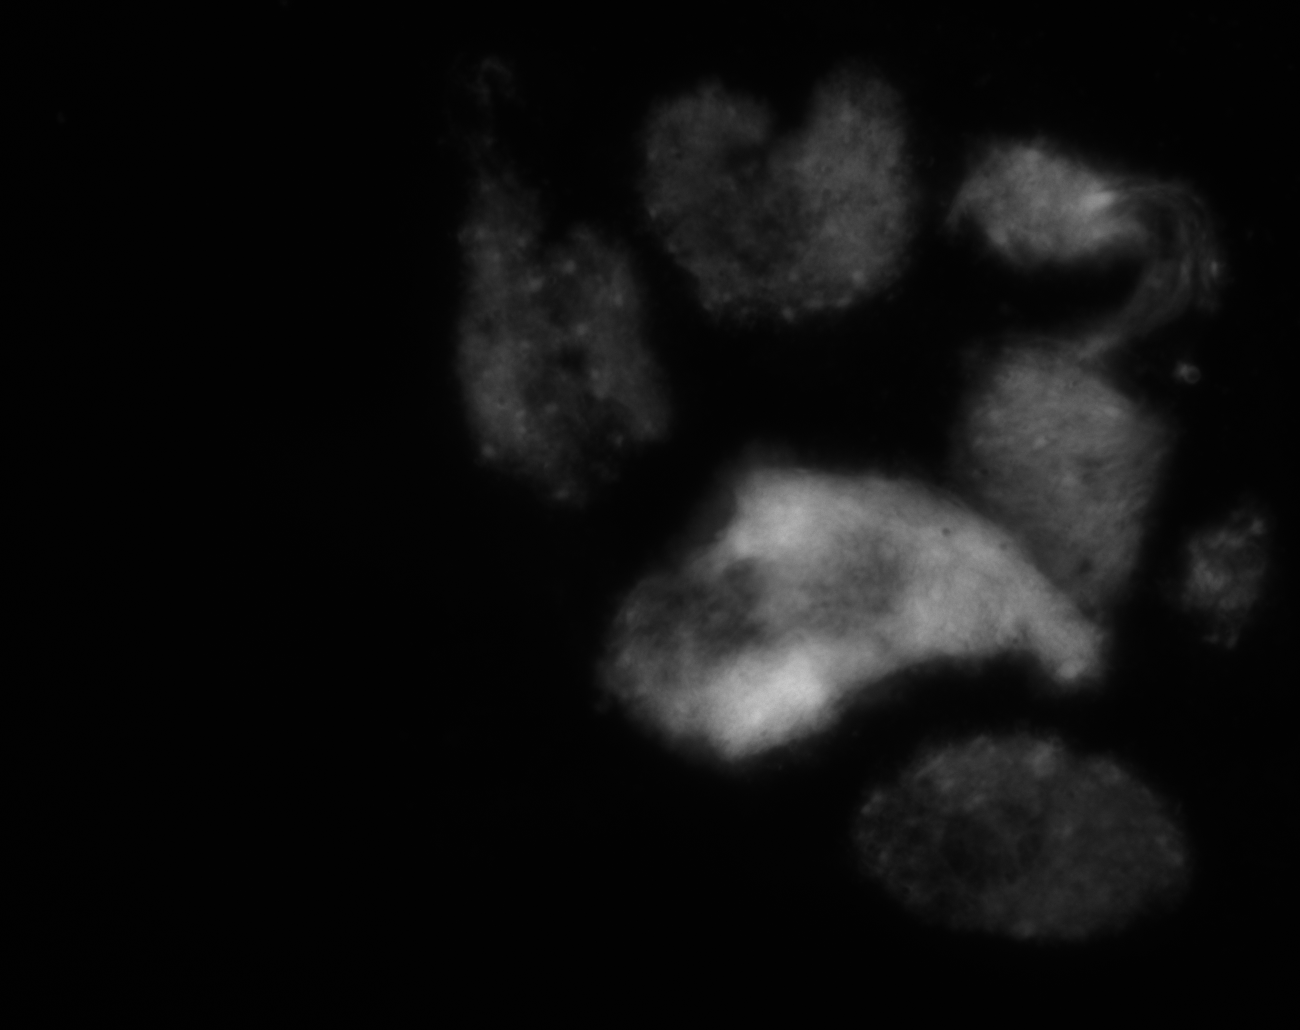Others: (567, 426, 1072, 786), (372, 56, 713, 509), (785, 716, 1236, 970), (906, 293, 1242, 581), (642, 49, 903, 343), (922, 120, 1245, 300), (1148, 476, 1293, 664)
